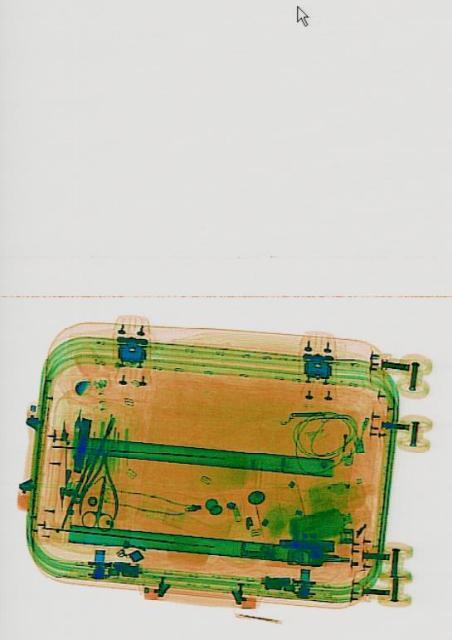Pliers: (76, 442, 123, 520)
Scissors: (79, 470, 118, 534)
